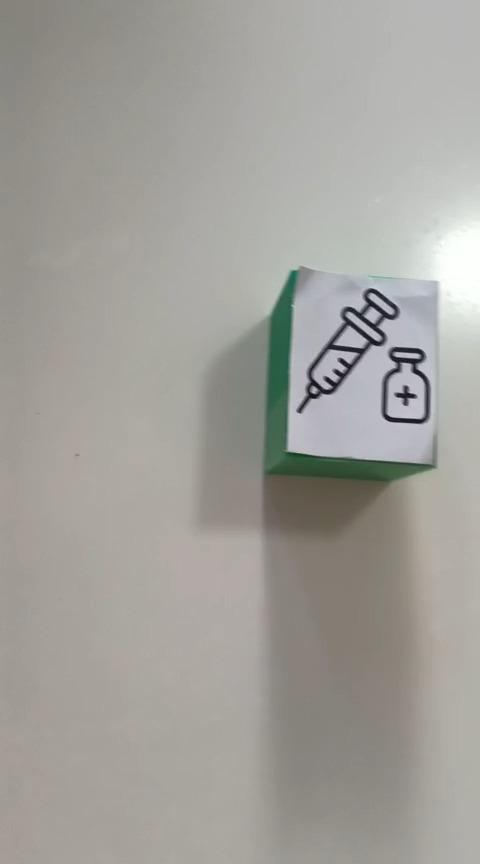antiseptic cream: (262, 264, 440, 482)
